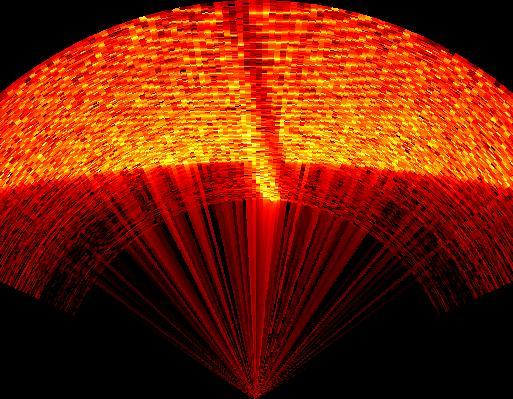pipe: (207, 0, 289, 200)
